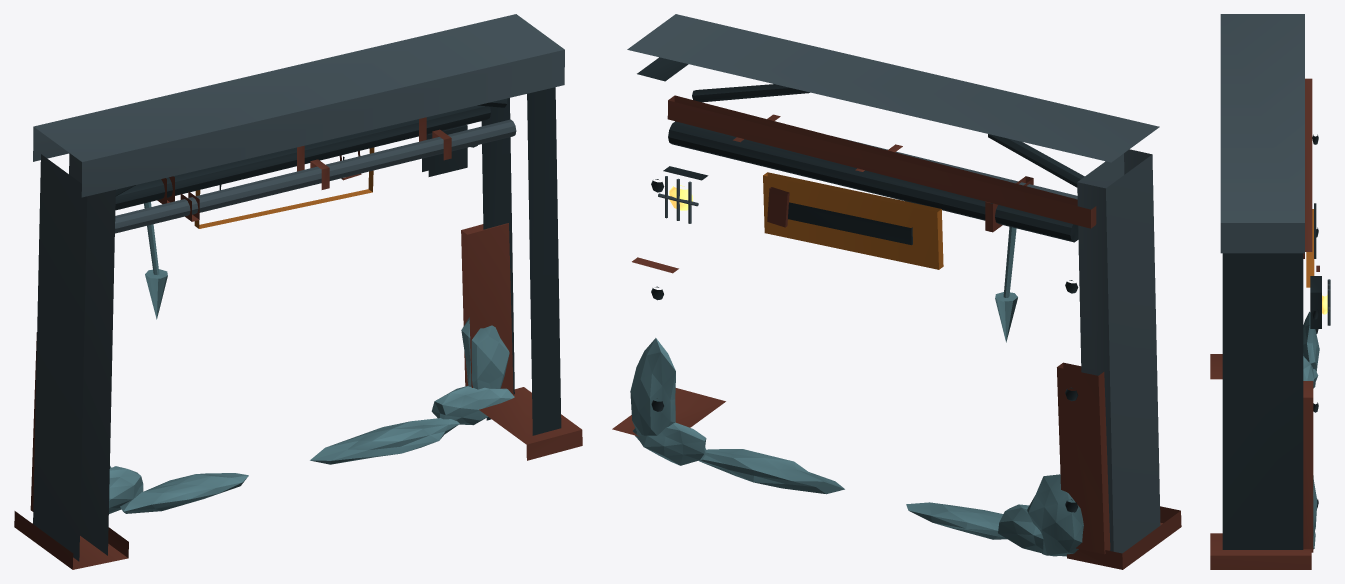
The model's file is frozen_maintenance_portal.glb.
The picture shows the model from 3 angles, left to right: view 1: azimuth 30°, elevation 25°; view 2: azimuth 150°, elevation 25°; view 3: azimuth 270°, elevation 25°; orthographic projection. The views are drawn at different scales.
Visible parts, largest first — view 1: FrozenMaintenancePortal_Mesh; view 2: FrozenMaintenancePortal_Mesh; view 3: FrozenMaintenancePortal_Mesh.
Boxes of the visible parts, x1,y1,x2,y2 form: FrozenMaintenancePortal_Mesh: [14, 14, 582, 569]; FrozenMaintenancePortal_Mesh: [612, 14, 1181, 569]; FrozenMaintenancePortal_Mesh: [1210, 14, 1330, 569].
Bounding box in the file's own units: 3.93 × 3 × 0.927.
